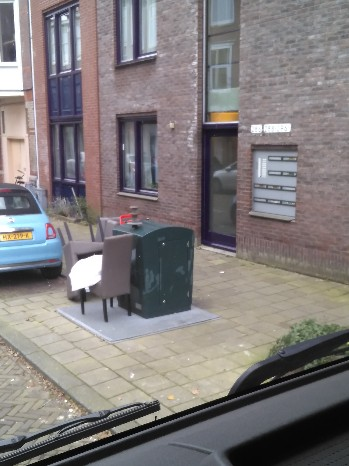Container: (125, 218, 199, 313)
Rest: (61, 225, 126, 312)
Voertuig: (0, 173, 55, 272)
